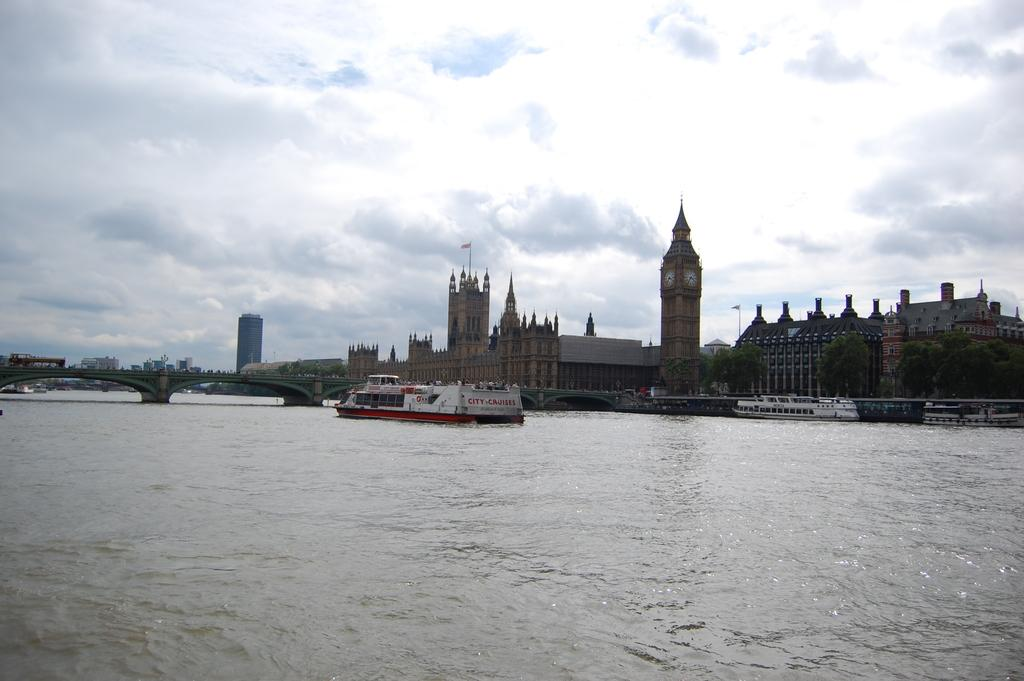PassengerShip: (321, 360, 539, 427), (727, 389, 859, 419)
